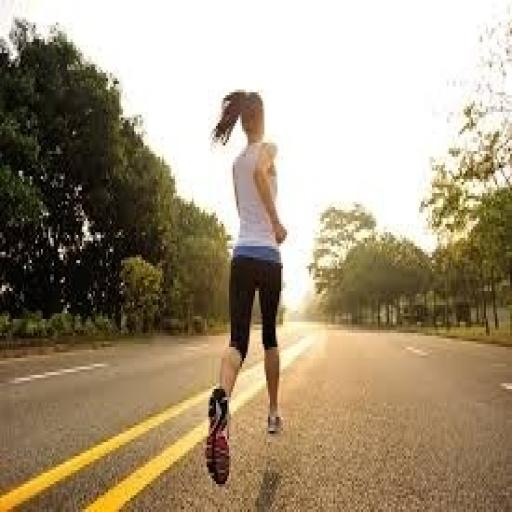running: (203, 84, 290, 487)
